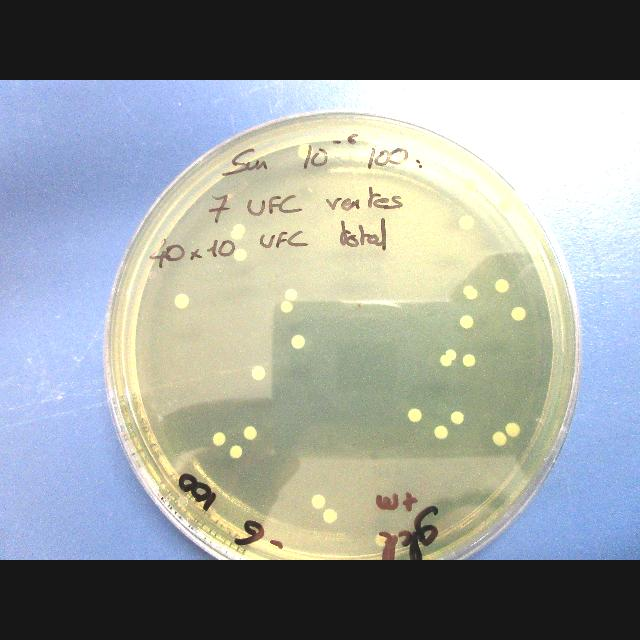colony: (322, 509, 338, 524), (492, 431, 508, 446), (505, 422, 520, 438), (462, 285, 478, 300), (434, 425, 449, 440), (459, 215, 474, 230), (175, 294, 189, 309), (231, 224, 245, 239), (496, 200, 511, 214), (462, 179, 478, 192), (291, 335, 305, 349), (251, 366, 265, 380), (212, 432, 226, 446), (244, 426, 258, 440), (311, 495, 325, 509), (462, 354, 476, 368), (460, 315, 474, 329), (511, 308, 526, 321), (451, 411, 464, 425), (495, 279, 509, 292), (408, 409, 421, 422), (230, 445, 242, 459), (298, 144, 309, 159), (285, 289, 298, 301), (234, 249, 246, 261), (280, 301, 292, 312), (440, 355, 452, 366), (445, 349, 456, 360)
